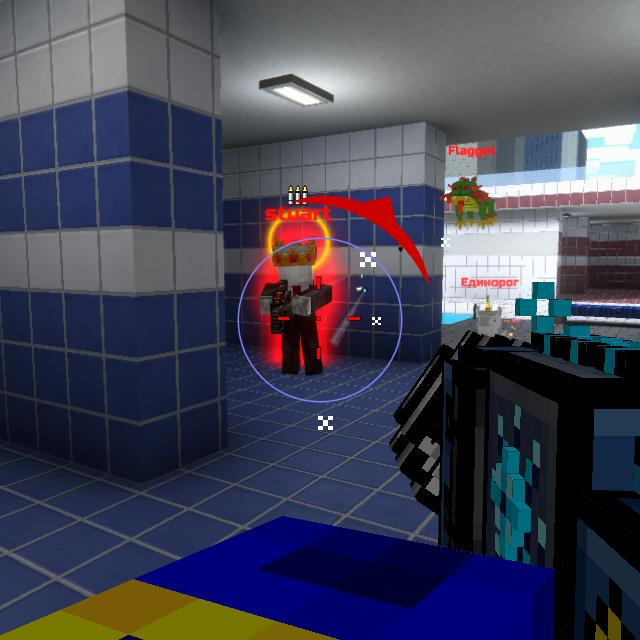Enemy: (258, 242, 331, 374)
